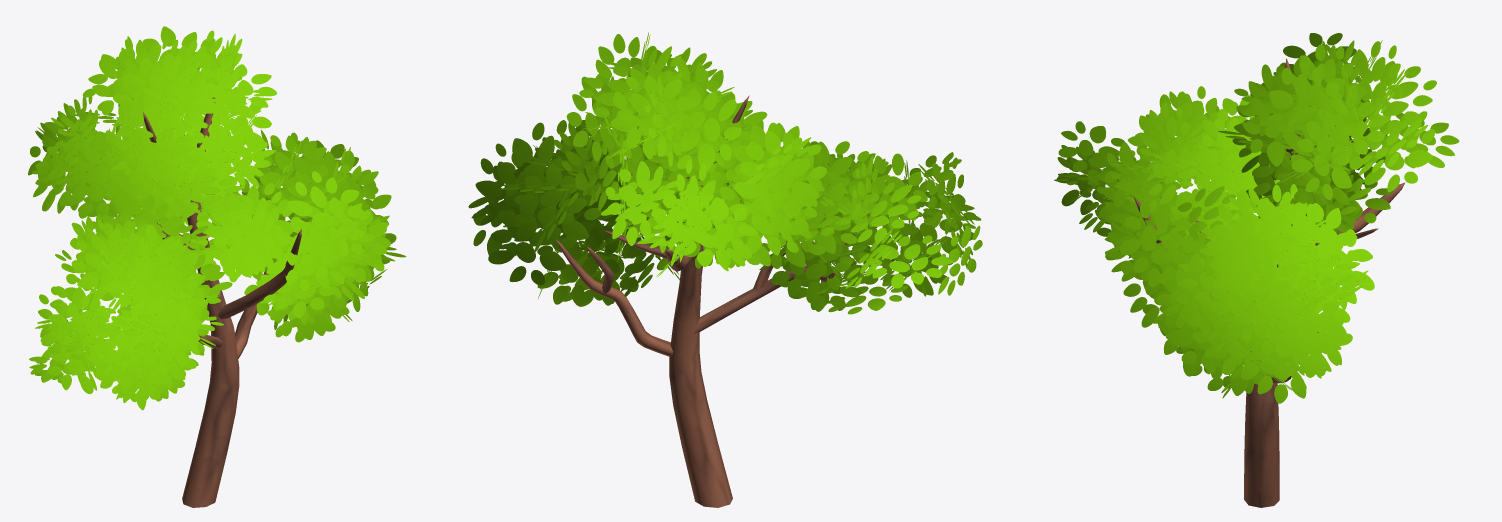
Rendered from tree-5.glb.
The picture shows the model from 3 angles, left to right: view 1: azimuth 30°, elevation 25°; view 2: azimuth 150°, elevation 25°; view 3: azimuth 270°, elevation 25°; orthographic projection. The views are drawn at different scales.
Visible parts, largest first — view 1: NormalTree_5; view 2: NormalTree_5; view 3: NormalTree_5.
Part boxes in pixels (bbox=[...]): NormalTree_5: bbox=[28, 26, 406, 507]; NormalTree_5: bbox=[468, 32, 982, 507]; NormalTree_5: bbox=[1054, 33, 1459, 507].
Bounding box in the file's own units: 3.1 × 2.98 × 2.57.
2 materials, 2 textured.
